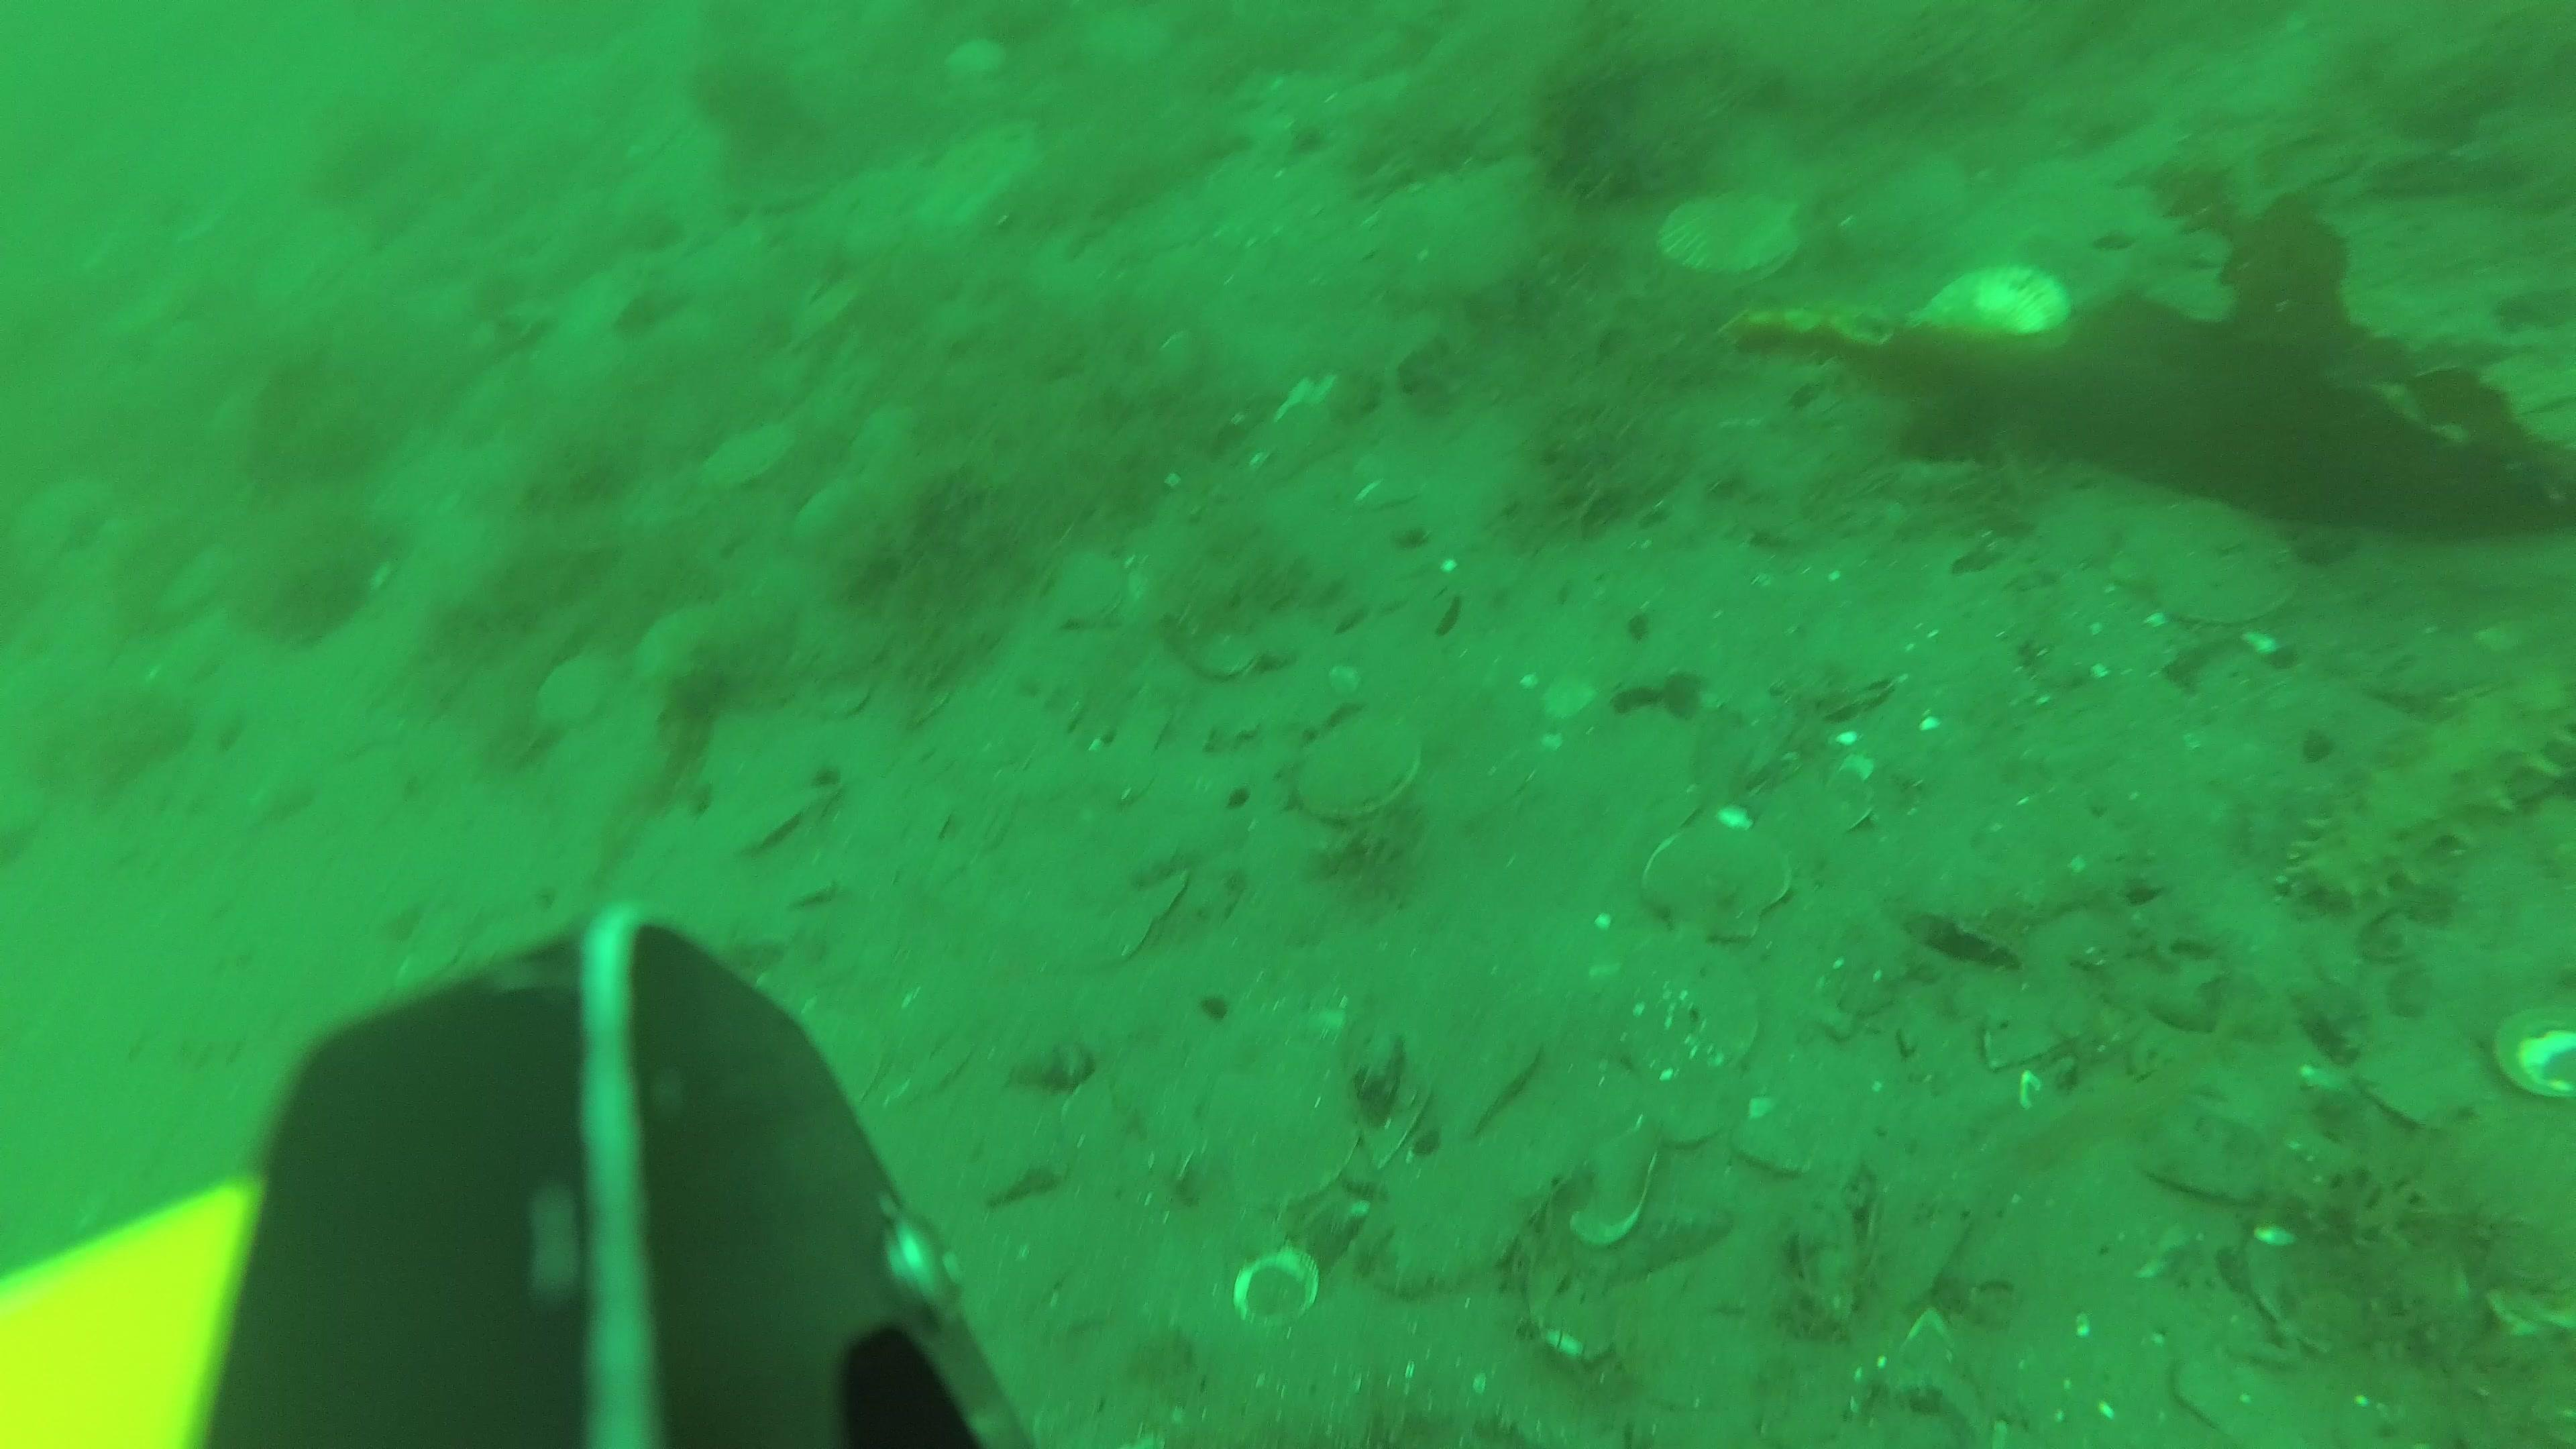scallop: (1369, 165, 1571, 306), (2123, 499, 2302, 630), (1596, 952, 1760, 1093), (1737, 1039, 1893, 1177), (1640, 824, 1798, 954), (2355, 1001, 2486, 1146), (1911, 251, 2068, 356), (1231, 1097, 1357, 1210), (1658, 189, 1803, 287), (1302, 717, 1419, 828), (922, 136, 1040, 234), (1780, 649, 1891, 729), (534, 655, 625, 740), (1047, 556, 1145, 633), (702, 428, 796, 504), (947, 34, 1014, 92), (1201, 623, 1263, 676)
